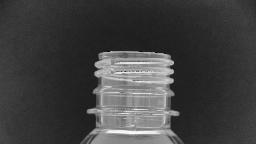No Cap: (83, 47, 183, 121)
